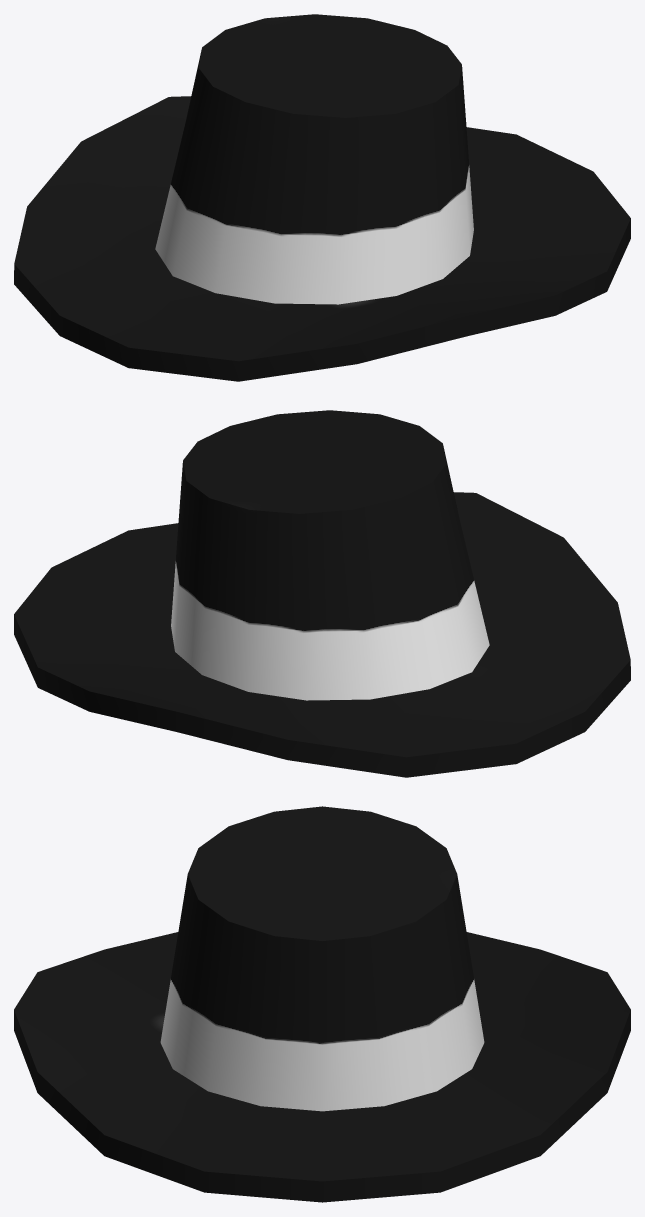
Rendered from hat_02.fbx.
The picture shows the model from 3 angles, top to bottom: view 1: azimuth 30°, elevation 25°; view 2: azimuth 150°, elevation 25°; view 3: azimuth 270°, elevation 25°; orthographic projection. The views are drawn at different scales.
Visible parts, largest first — view 1: Circle; view 2: Circle; view 3: Circle.
Boxes of the visible parts, x1=… form: Circle: x1=14, y1=14, x2=630, y2=381; Circle: x1=14, y1=410, x2=630, y2=777; Circle: x1=14, y1=806, x2=630, y2=1202.
Size of the model in its own units: 189 by 71.75 by 183.
